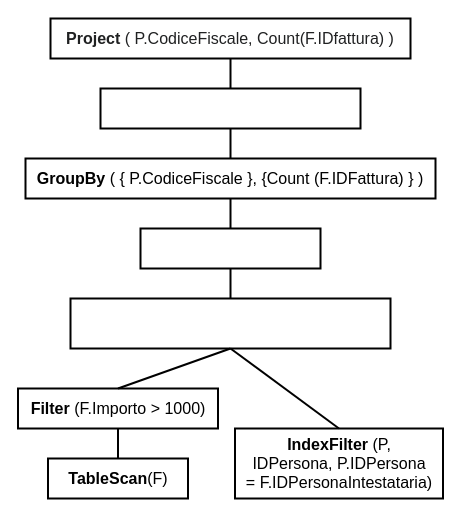
This 461x516 diagram has some shape labels left out. Here are the shapes that lost their labels. From the top down, the box of each, then its label:
(99, 87, 361, 129): Filter ( Count(F.IDFattura) > 3 )
(139, 227, 321, 269): Sort (P.CodiceFiscale)
(69, 297, 391, 349): IndexNestedLoop (F.IDPersonaIntestataria = P.IDPersona)
